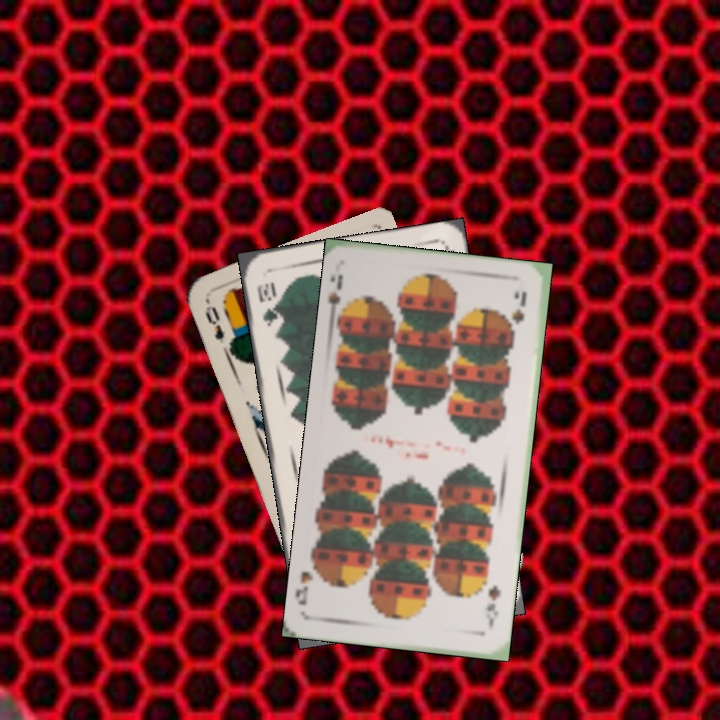EO: (201, 296, 227, 346)
G10: (253, 278, 281, 329)
S9: (325, 270, 351, 324), (482, 581, 503, 632)
